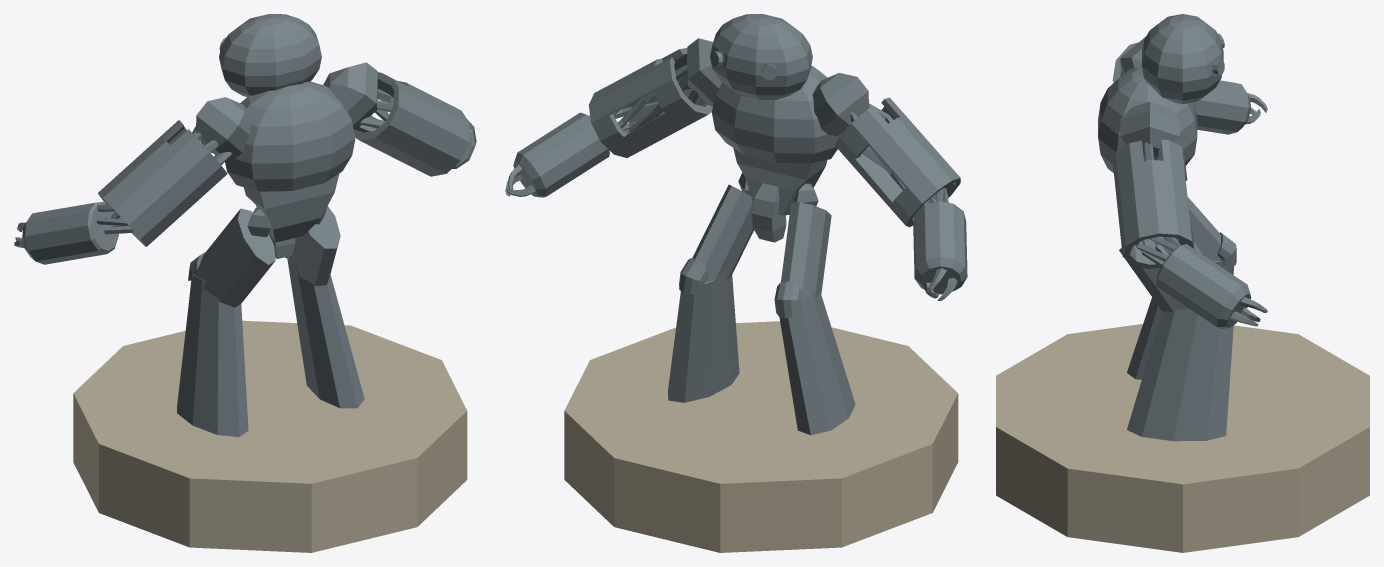
File: RobotFBX.fbx
3 renders of one model, left to right at view 1: azimuth 30°, elevation 25°; view 2: azimuth 150°, elevation 25°; view 3: azimuth 270°, elevation 25°, orthographic.
Visible parts, largest first — view 1: La_Fusion; view 2: La_Fusion; view 3: La_Fusion.
Part boxes in pixels (<box>): La_Fusion: <box>14,14,476,552</box>; La_Fusion: <box>505,14,967,552</box>; La_Fusion: <box>996,14,1369,552</box>.
Size of the model in its own units: 0.9774 by 0.9425 by 0.7097.
